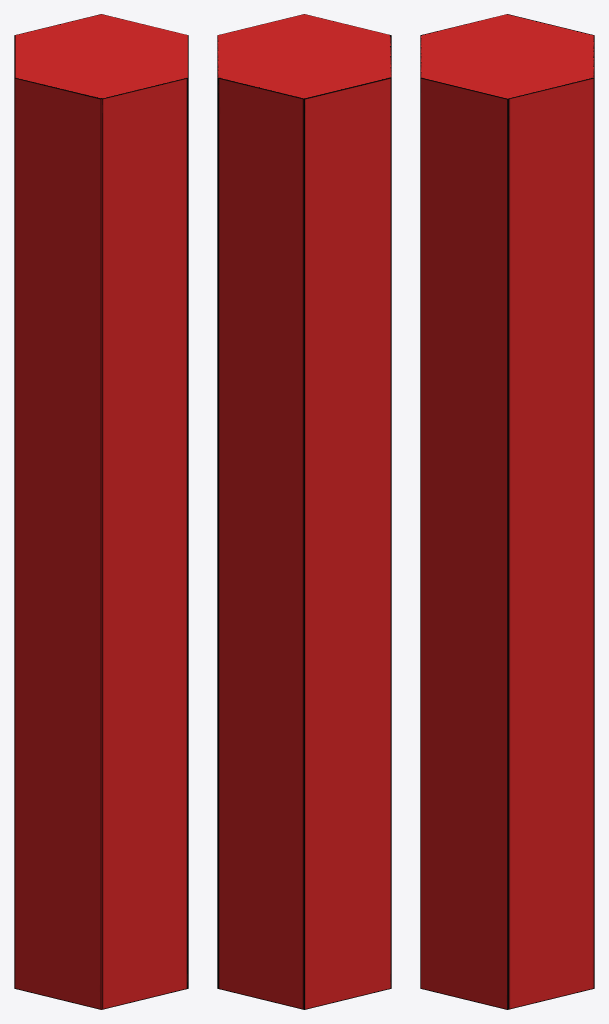
The model's file is world3_a.obj.
The picture shows the model from 3 angles, left to right: view 1: azimuth 30°, elevation 25°; view 2: azimuth 150°, elevation 25°; view 3: azimuth 270°, elevation 25°; orthographic projection.
Visible parts, largest first — view 1: 円; view 2: 円; view 3: 円.
Boxes of the visible parts, x1=… form: 円: x1=14, y1=14, x2=188, y2=1009; 円: x1=217, y1=14, x2=391, y2=1009; 円: x1=420, y1=14, x2=594, y2=1009.
Bounding box in the file's own units: 2 × 10 × 1.73.
1 material, 1 textured.
